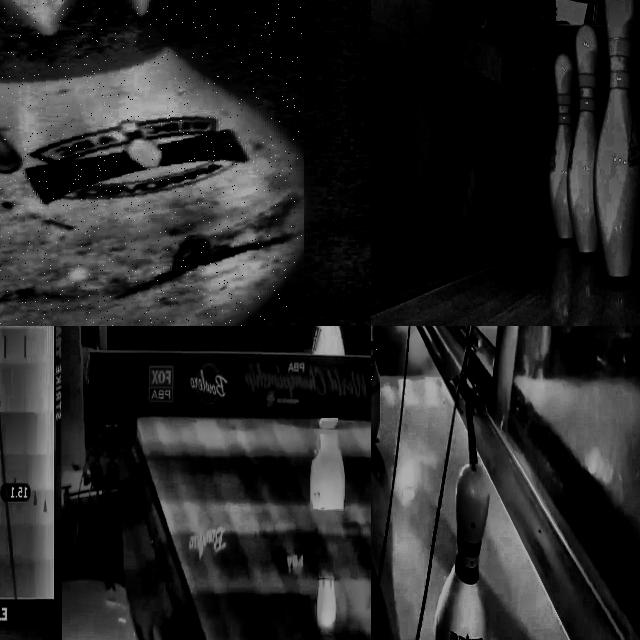bowling-pins: (594, 0, 640, 280), (436, 414, 490, 640), (567, 23, 600, 254), (548, 53, 573, 240), (371, 326, 380, 441), (312, 326, 344, 354), (322, 419, 338, 424)
sweep board: (88, 350, 371, 434)
